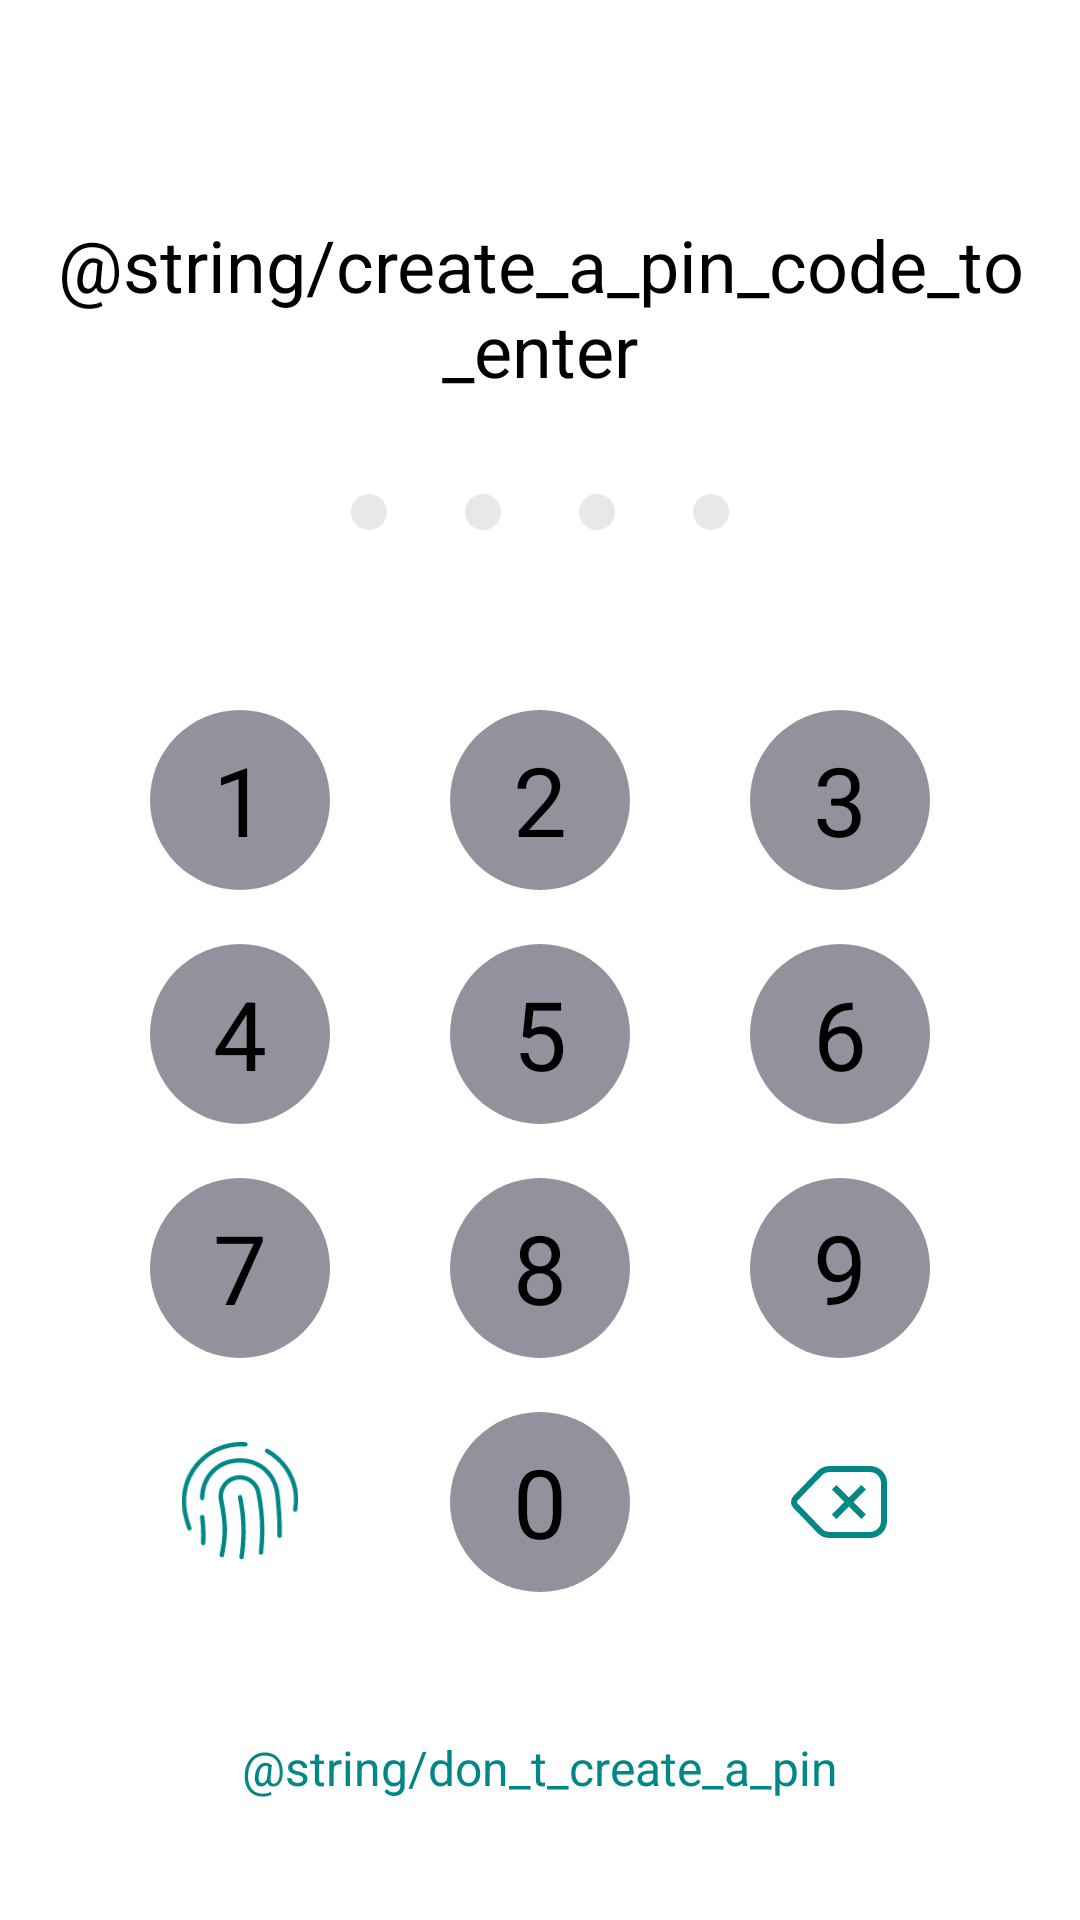

Icons on this 1080*1920 Android screen, each with the point to tap as point (x, y):
backspace: point (839, 1502)
touch: point (240, 1501)
